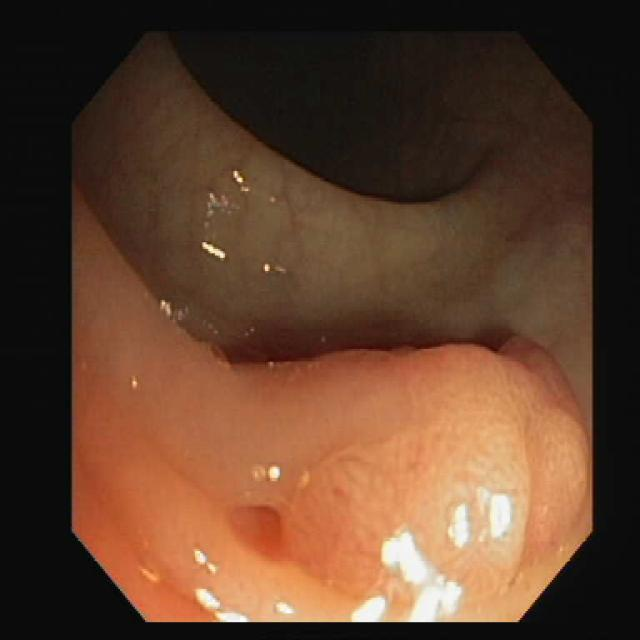tumor: (305, 344, 587, 591)
